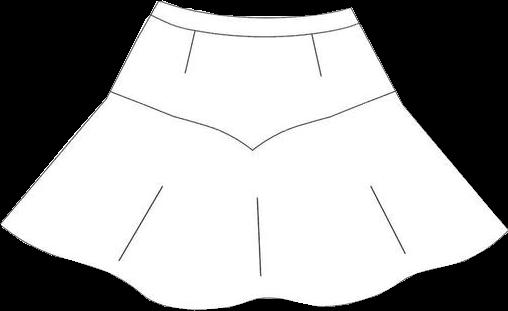Hemline: (0, 222, 507, 310)
Waistline: (109, 89, 395, 150), (150, 13, 361, 38), (157, 0, 351, 20)
